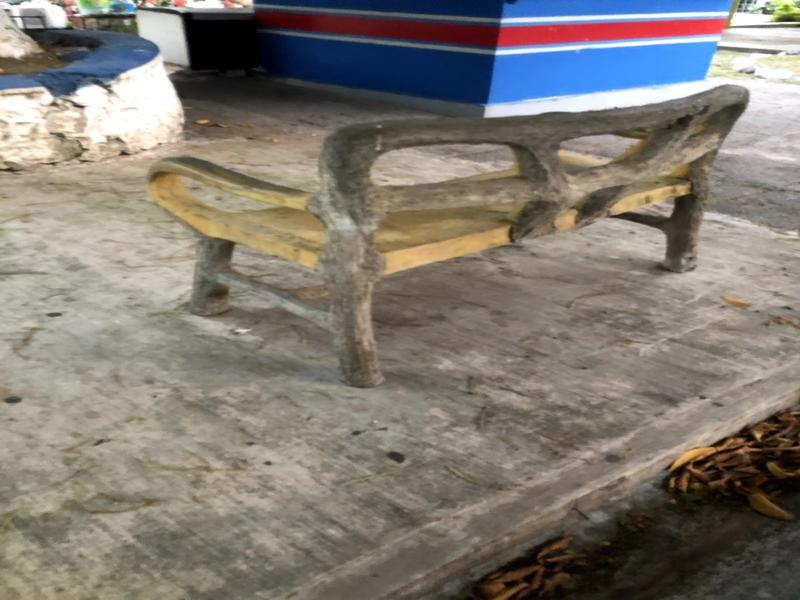18.0050864_-76.7496363_bench: (134, 86, 774, 382)
